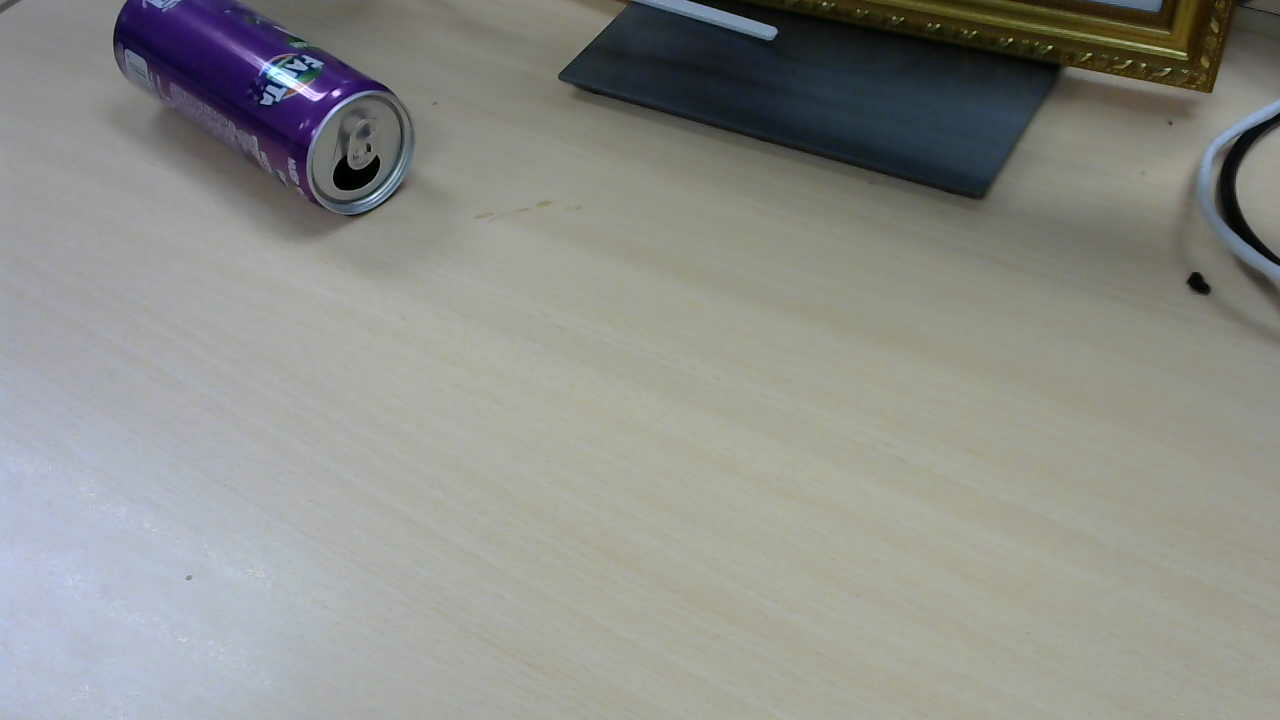Fanta: (119, 4, 418, 224)
